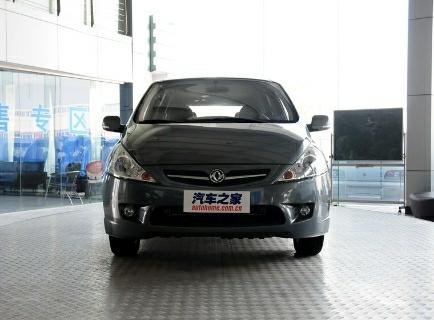car: (83, 72, 336, 266)
